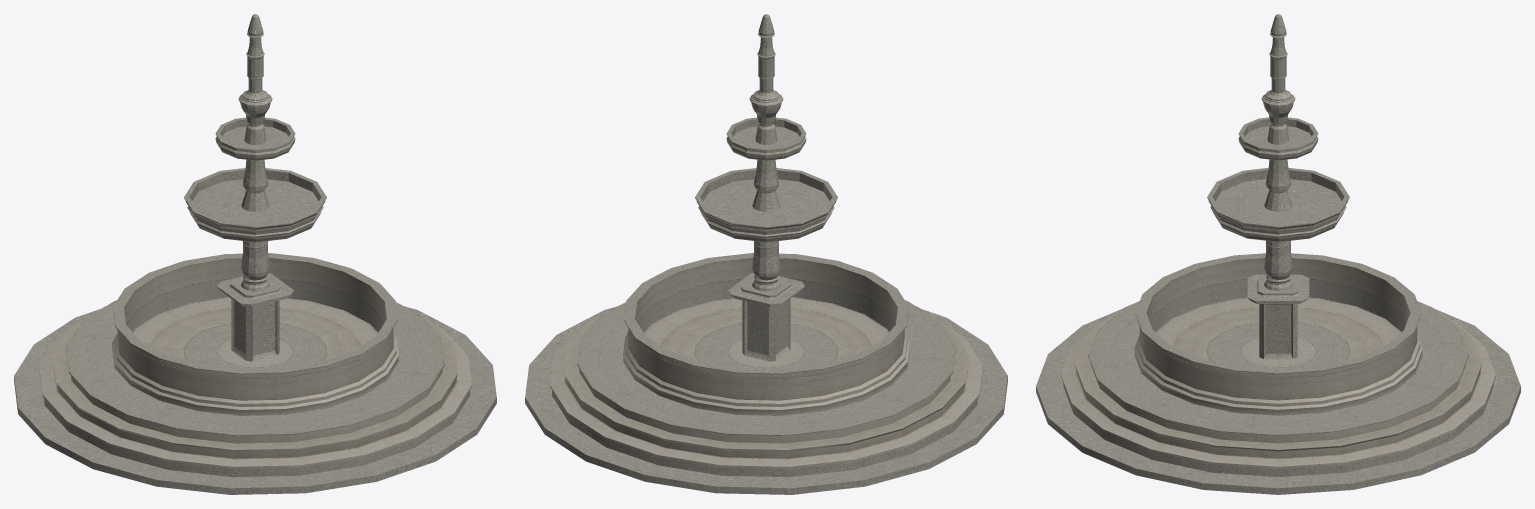
The model's file is fonte-finallambert.dae.
The picture shows the model from 3 angles, left to right: view 1: azimuth 30°, elevation 25°; view 2: azimuth 150°, elevation 25°; view 3: azimuth 270°, elevation 25°; orthographic projection.
Visible parts, largest first — view 1: polySurface47, polySurface4, polySurface5, polySurface3, polySurface46; view 2: polySurface47, polySurface4, polySurface5, polySurface3, polySurface46; view 3: polySurface47, polySurface4, polySurface5, polySurface46, polySurface3.
Part boxes in pixels (left/top/right/bottom): polySurface47: left=39, top=253, right=471, bottom=468; polySurface4: left=184, top=14, right=326, bottom=291; polySurface5: left=14, top=306, right=496, bottom=494; polySurface3: left=217, top=273, right=293, bottom=361; polySurface46: left=43, top=390, right=469, bottom=477; polySurface47: left=550, top=253, right=982, bottom=468; polySurface4: left=695, top=14, right=837, bottom=291; polySurface5: left=525, top=306, right=1007, bottom=494; polySurface3: left=728, top=273, right=804, bottom=361; polySurface46: left=552, top=390, right=978, bottom=477; polySurface47: left=1061, top=253, right=1495, bottom=468; polySurface4: left=1207, top=14, right=1349, bottom=290; polySurface5: left=1036, top=308, right=1520, bottom=494; polySurface46: left=1063, top=383, right=1493, bottom=476; polySurface3: left=1247, top=274, right=1309, bottom=359.
Bounding box in the file's own units: 13.05 × 11.24 × 13.05.
Materials: 2 (2 with a texture image).
